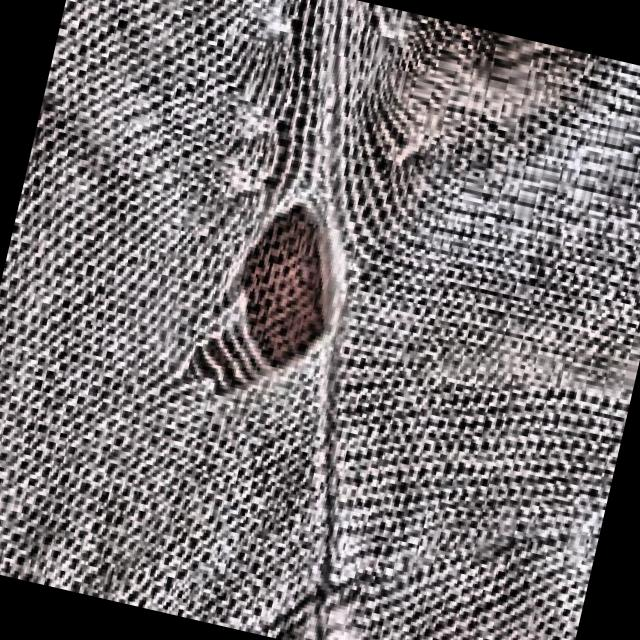cut: (149, 132, 396, 454)
